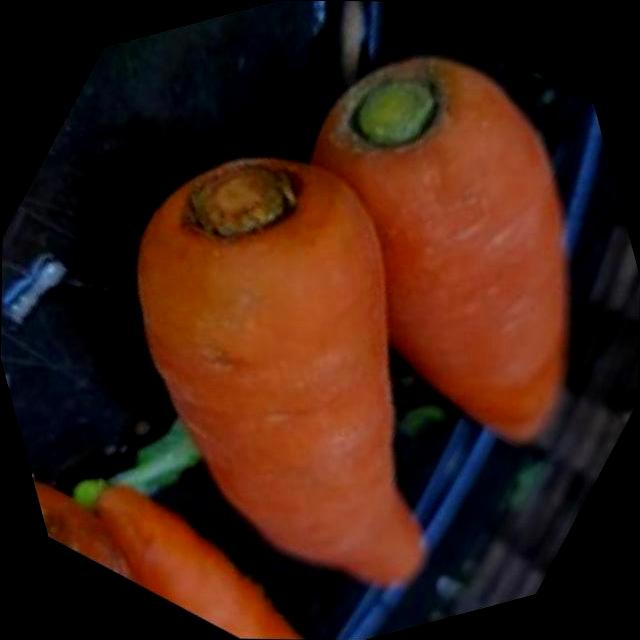carrot: (0, 0, 640, 640), (91, 0, 640, 593)
